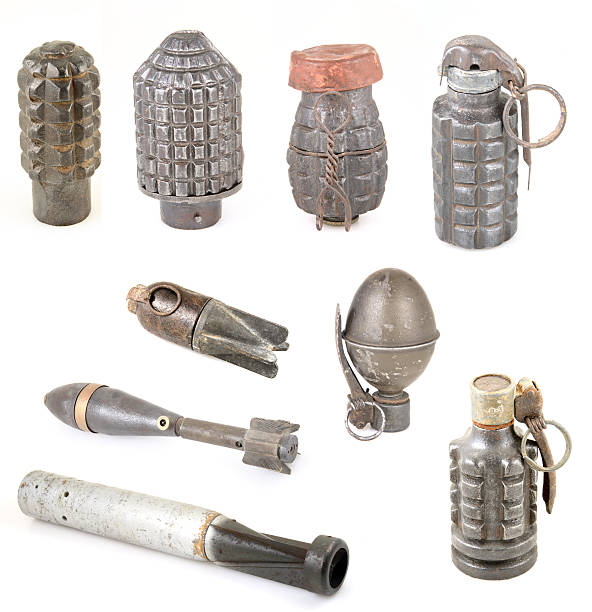e1: (427, 39, 577, 249), (443, 370, 573, 581), (134, 25, 252, 230), (13, 38, 102, 232), (331, 271, 428, 438)
